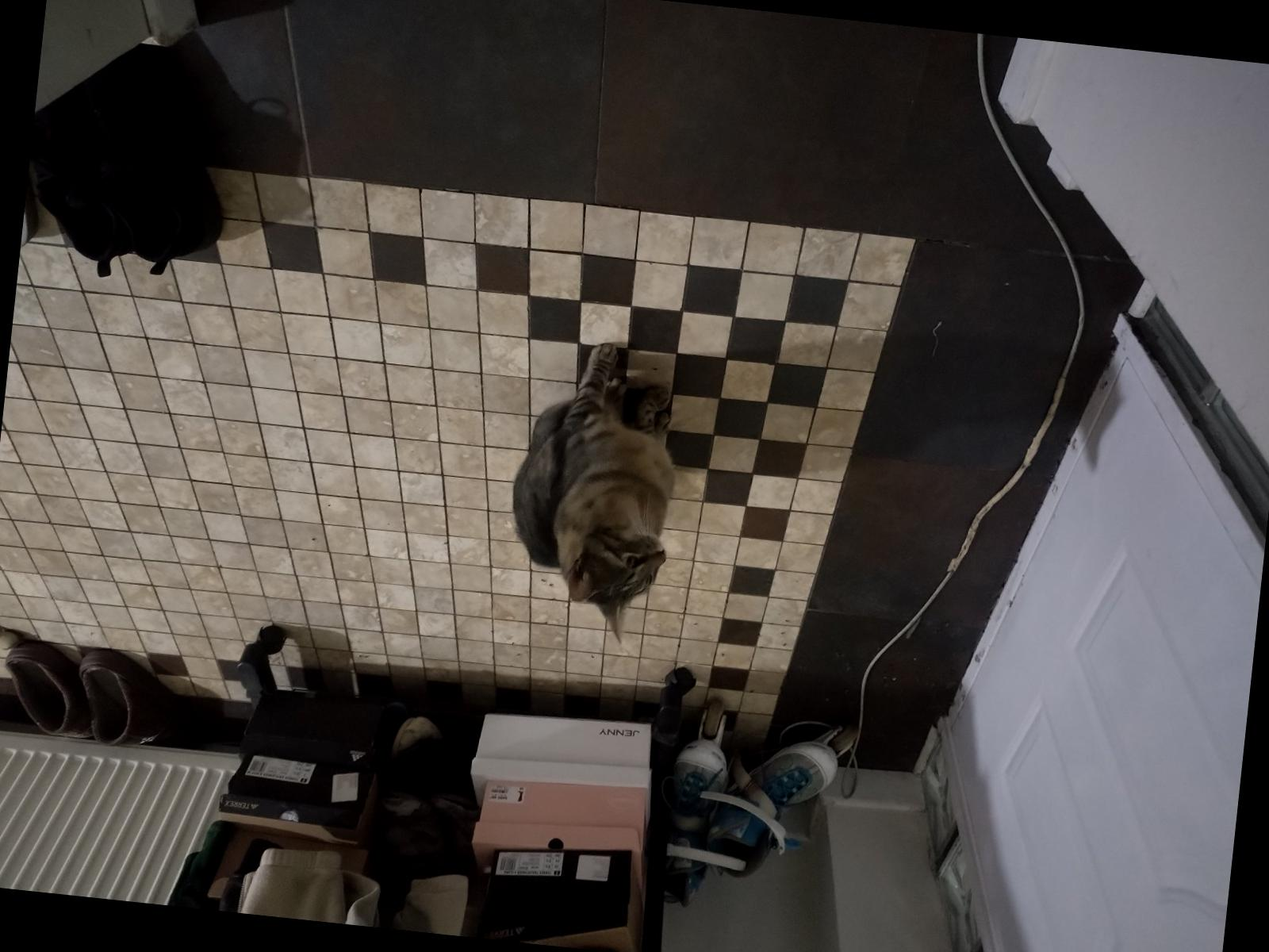macka: (493, 334, 691, 654)
